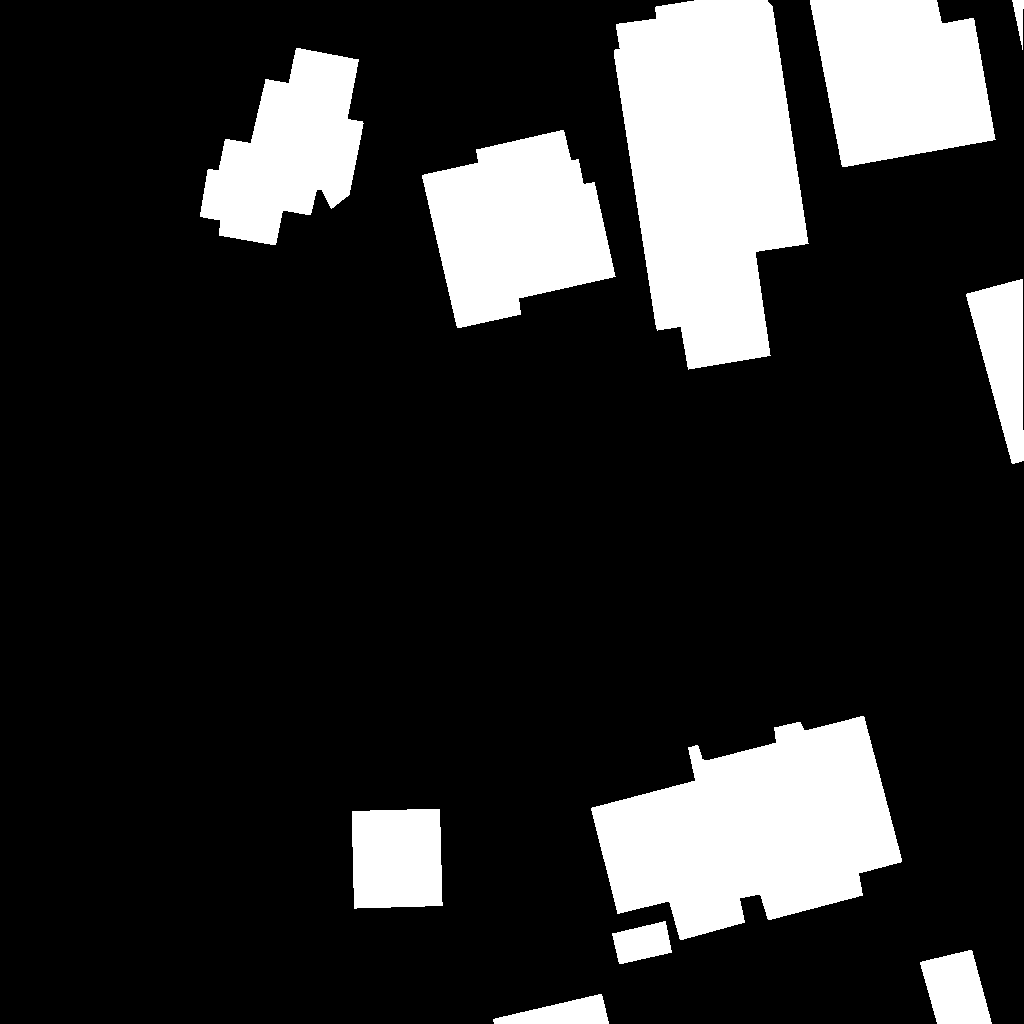building: (614, 0, 809, 370), (591, 716, 903, 941), (422, 130, 616, 329), (200, 48, 364, 246), (810, 0, 996, 168), (966, 279, 1024, 465), (352, 809, 443, 909), (920, 950, 993, 1024), (493, 994, 610, 1024), (612, 921, 673, 965), (1012, 0, 1024, 53)
